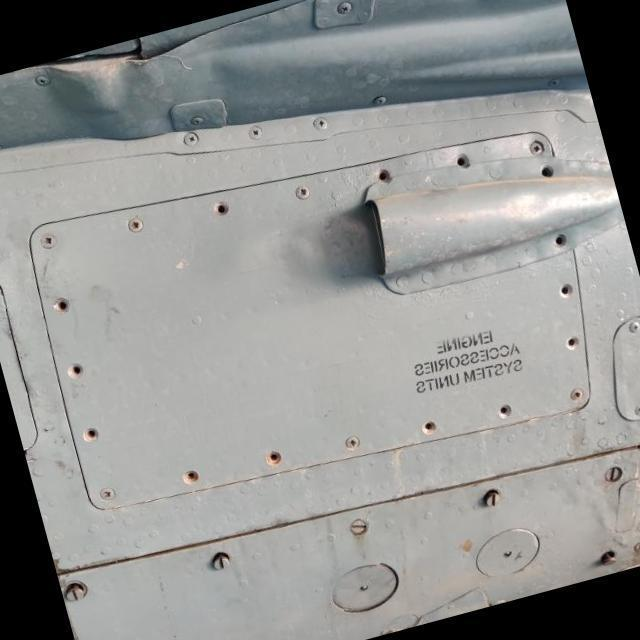Fastener Damage: (193, 180, 250, 232), (247, 429, 300, 484), (48, 342, 100, 396), (62, 408, 116, 459), (164, 452, 216, 502), (438, 136, 488, 184), (406, 404, 454, 454), (36, 280, 84, 328), (543, 266, 590, 313), (481, 388, 526, 434), (359, 154, 404, 195), (551, 320, 593, 363), (540, 219, 582, 261), (526, 150, 568, 190)
